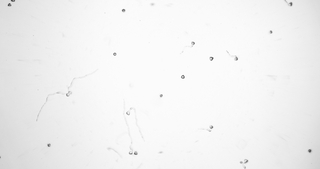germinated: (59, 89, 69, 99), (204, 123, 214, 132), (65, 84, 73, 94), (186, 40, 196, 48), (240, 157, 248, 167), (125, 106, 133, 115), (127, 143, 133, 154), (283, 0, 294, 6), (230, 54, 239, 61)
nongerminated: (179, 72, 186, 80), (5, 1, 13, 8), (157, 92, 164, 99), (111, 51, 118, 58), (267, 28, 274, 34), (207, 55, 214, 61), (306, 147, 312, 154), (120, 7, 127, 13), (45, 142, 52, 148)
